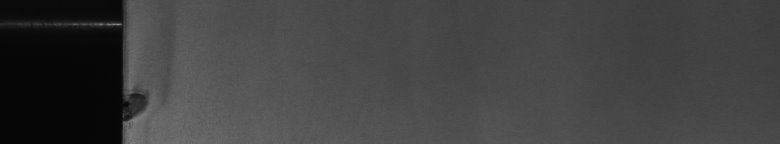hb: (132, 80, 166, 125)
